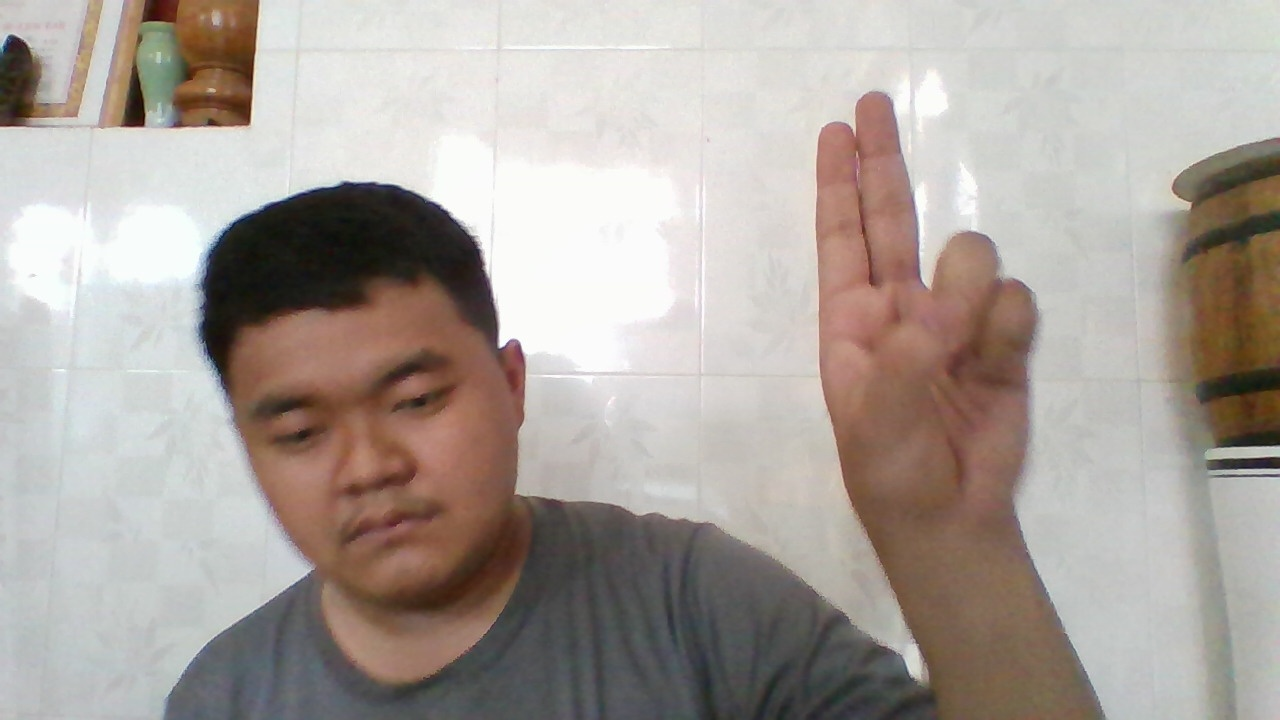U: (821, 88, 1032, 539)
